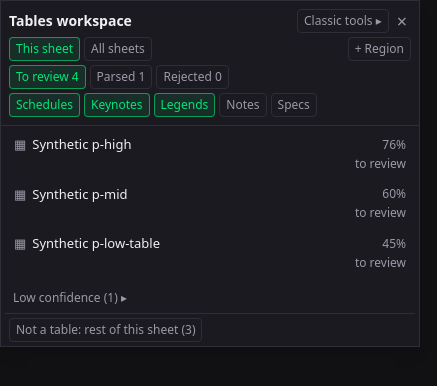
inbox › bulk reject stops on the first failure
The image size is (437, 386).
Expected: the list named "Inbox" is shown, [5, 130, 415, 276]
Click the button "Not a table: rest of this sheet (3)": {"x": 106, "y": 330} [9, 318, 202, 342]
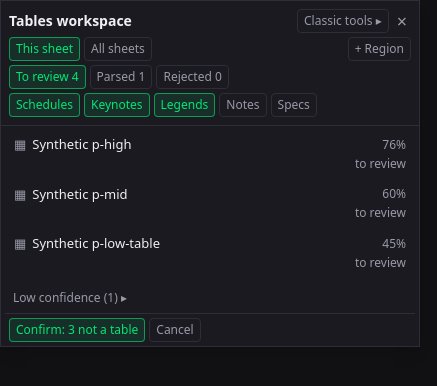
Click the button "Confirm: 3 not a table": {"x": 77, "y": 330} [9, 318, 145, 342]
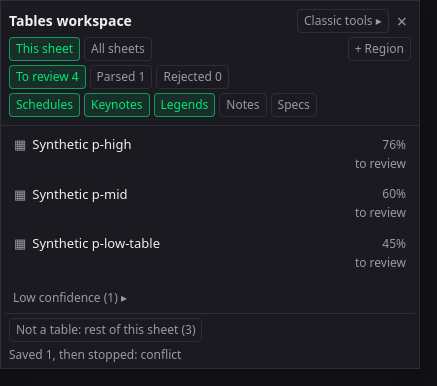
Now the text "Saved 1, then stopped: conflict" is shown, box [9, 346, 181, 362]
